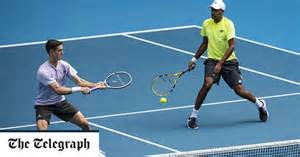tennis_ball: (159, 96, 167, 104)
